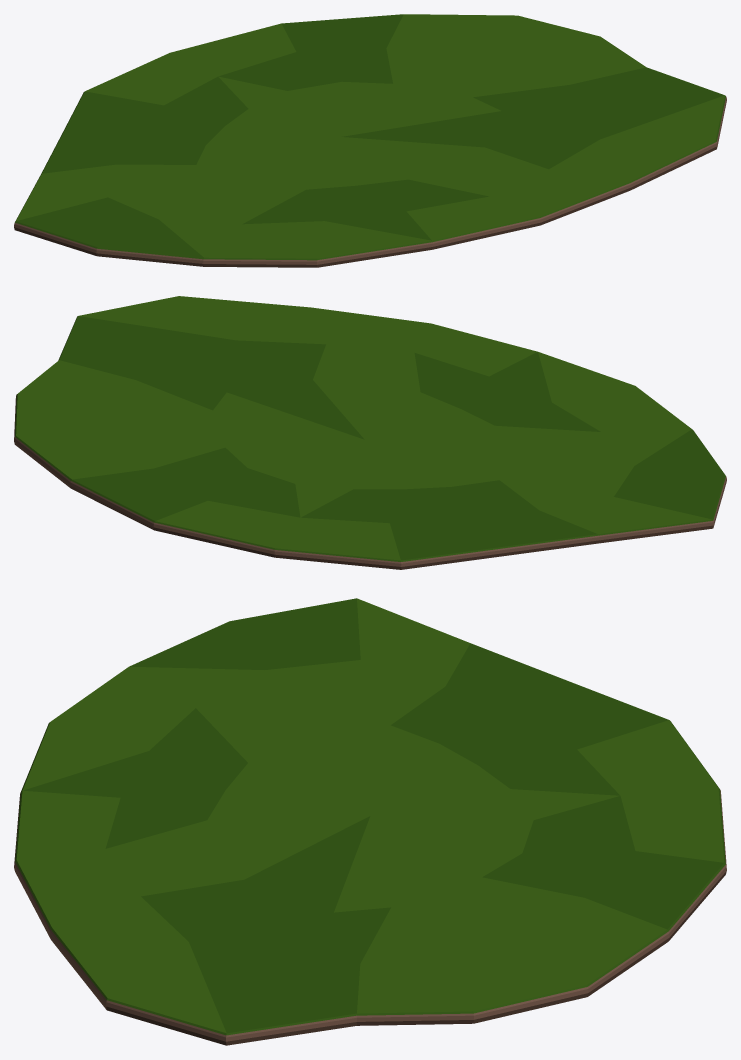
File: FMS_Mach_Demo_IslandBase.fbx
3 renders of one model, top to bottom at view 1: azimuth 30°, elevation 25°; view 2: azimuth 150°, elevation 25°; view 3: azimuth 270°, elevation 25°, orthographic. The views are drawn at different scales.
Parts seen in each view (by area): view 1: IslandBase; view 2: IslandBase; view 3: IslandBase.
Part boxes in pixels (x1,y1,x2,y2): IslandBase: [14, 14, 726, 267]; IslandBase: [14, 296, 726, 569]; IslandBase: [14, 598, 726, 1045].
Bounding box in the file's own units: 64.33 × 0.8 × 44.33.
